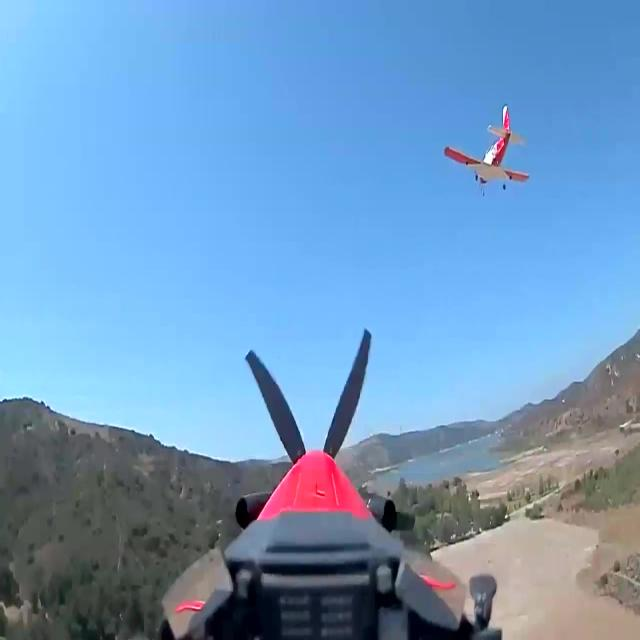iha: (475, 135, 498, 166)
